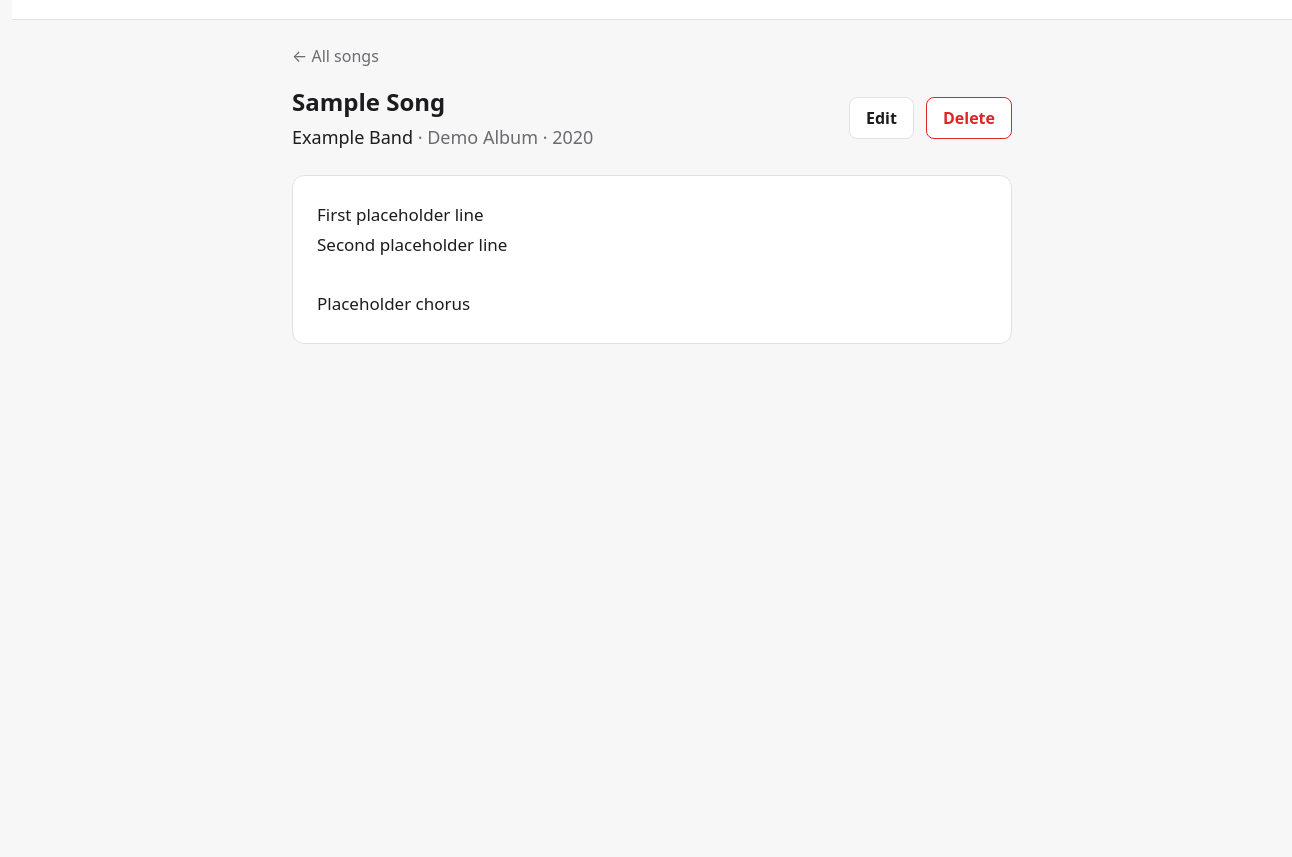
Test: SongDetailPage › shows an error when deleting fails
Check: the heading "Sample Song" is shown, box [292,85,445,118]
Click the button "Delete".
click(969, 118)  # box [926,96,1012,138]
(page scrolled)
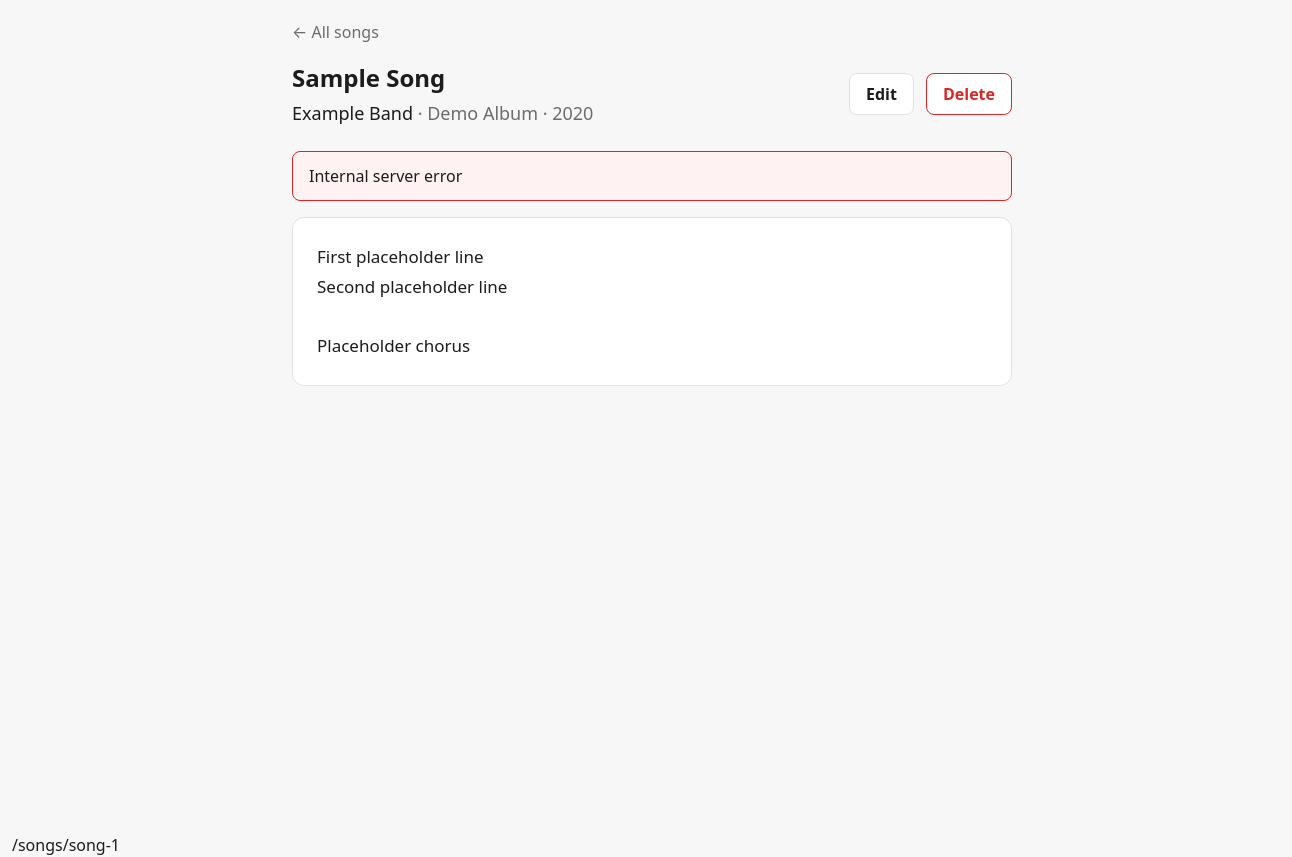
Check: the text with test id "location" reads "/songs/song-1", box [12,834,120,856]
Check: the message reads "Internal server error", box [309,165,462,187]
